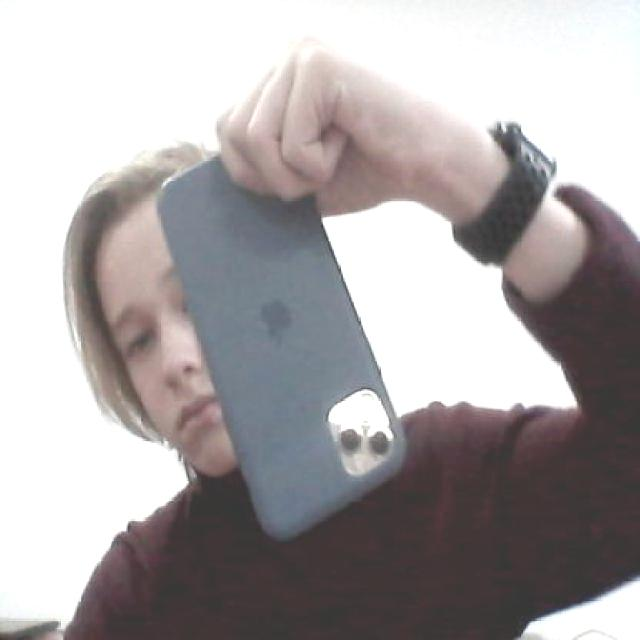lens: (329, 391, 400, 478)
phone: (158, 150, 422, 548)
